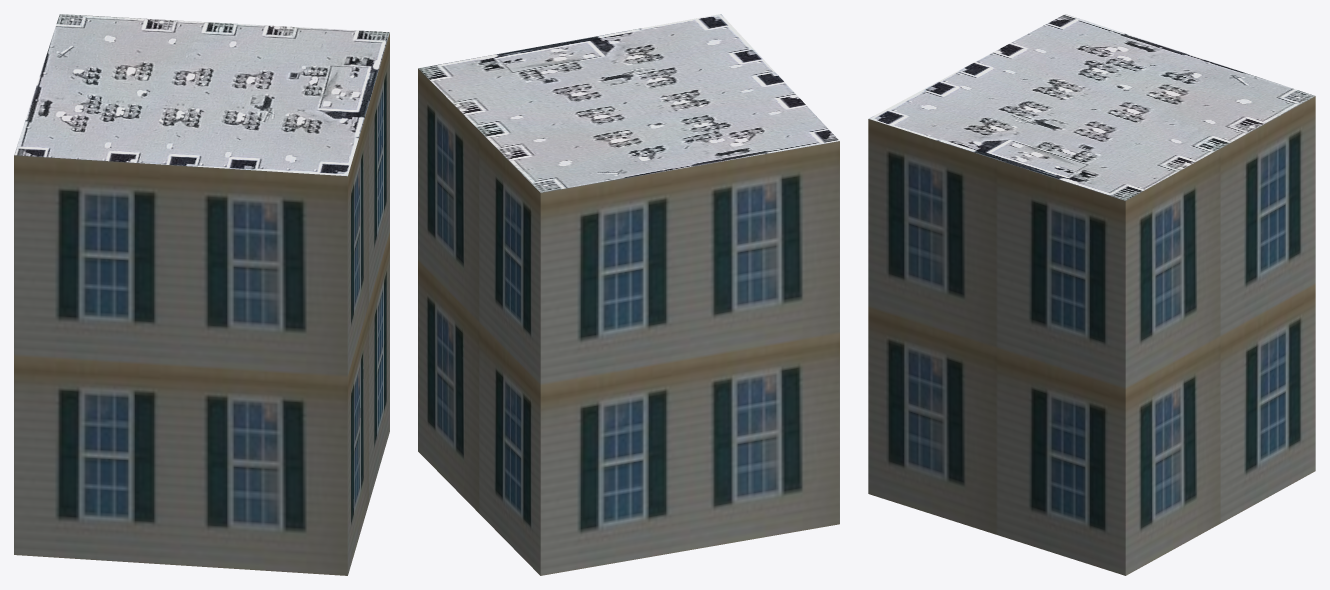
The model's file is ResTex__1360.fbx.
3 renders of one model, left to right at view 1: azimuth 30°, elevation 25°; view 2: azimuth 150°, elevation 25°; view 3: azimuth 270°, elevation 25°, orthographic. The views are drawn at different scales.
Visible parts, largest first — view 1: CityEngineMaterial_7_m, CityEngineMaterial_15_m; view 2: CityEngineMaterial_7_m, CityEngineMaterial_15_m; view 3: CityEngineMaterial_7_m, CityEngineMaterial_15_m.
Boxes of the visible parts, bbox=[...] form: CityEngineMaterial_7_m: bbox=[14, 32, 389, 575]; CityEngineMaterial_15_m: bbox=[14, 14, 389, 176]; CityEngineMaterial_7_m: bbox=[418, 68, 839, 575]; CityEngineMaterial_15_m: bbox=[418, 14, 839, 192]; CityEngineMaterial_7_m: bbox=[868, 96, 1315, 575]; CityEngineMaterial_15_m: bbox=[868, 14, 1314, 200].
Size of the model in its own units: 6.41 by 6 by 6.48.
Materials: 2 (2 with a texture image).
